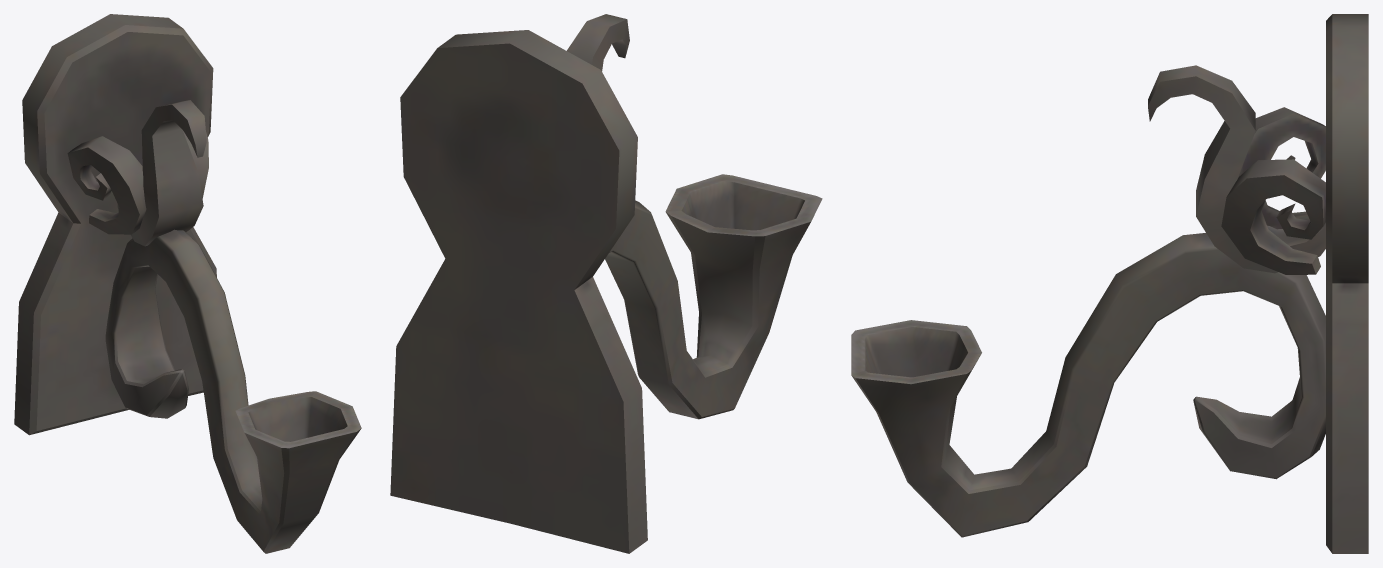
Rendered from Wall-AttachedLantern.fbx.
3 renders of one model, left to right at view 1: azimuth 30°, elevation 25°; view 2: azimuth 150°, elevation 25°; view 3: azimuth 270°, elevation 25°, orthographic. The views are drawn at different scales.
Visible parts, largest first — view 1: Wall_AttatchedLantern, torch2, torch3, torch1, torch4; view 2: Wall_AttatchedLantern, torch2, torch3; view 3: torch2, Wall_AttatchedLantern, torch3, torch4, torch1.
Boxes of the visible parts, x1,y1,x2,y2 form: Wall_AttatchedLantern: [14, 14, 216, 435]; torch2: [105, 229, 361, 553]; torch3: [117, 100, 206, 246]; torch1: [67, 136, 146, 234]; torch4: [183, 131, 208, 198]; Wall_AttatchedLantern: [390, 30, 647, 553]; torch2: [605, 174, 822, 419]; torch3: [567, 14, 629, 70]; torch2: [851, 233, 1325, 537]; Wall_AttatchedLantern: [1326, 14, 1368, 553]; torch3: [1148, 65, 1325, 273]; torch4: [1221, 159, 1325, 274]; torch1: [1238, 107, 1325, 229].
Size of the model in its own units: 189 by 391 by 364.
